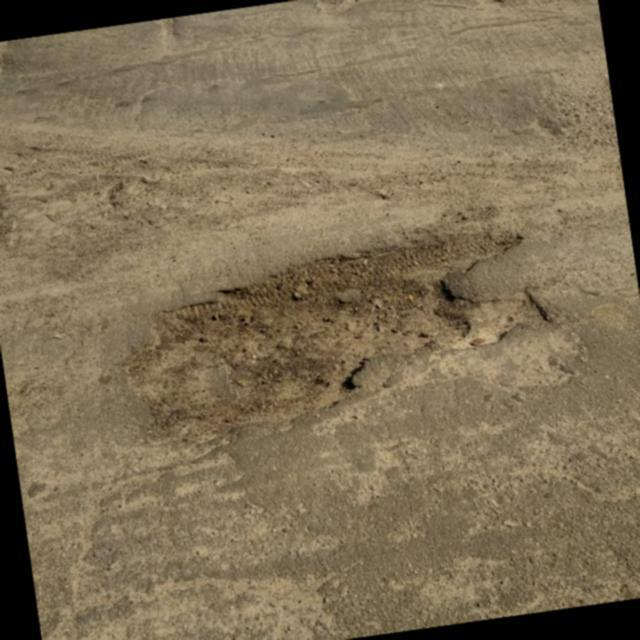Pothole: (125, 225, 552, 439)
